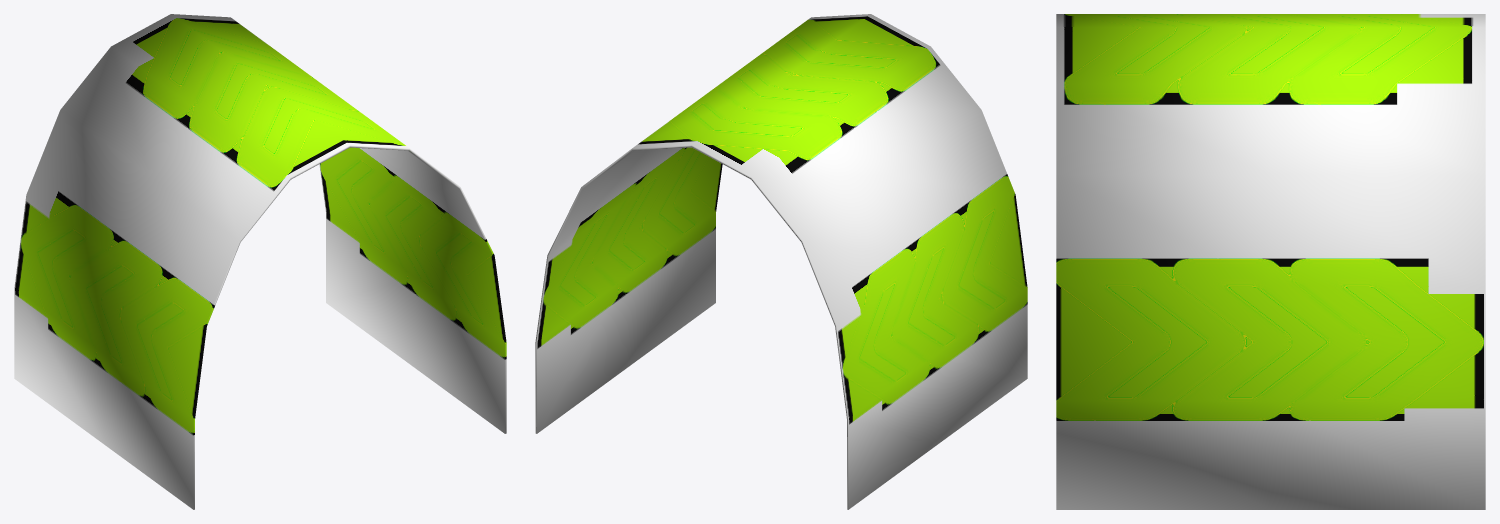
The model's file is ParkourBorderlines_Solid.fbx.
The picture shows the model from 3 angles, left to right: view 1: azimuth 30°, elevation 25°; view 2: azimuth 150°, elevation 25°; view 3: azimuth 270°, elevation 25°; orthographic projection. The views are drawn at different scales.
Parts seen in each view (by area): view 1: Circle; view 2: Circle; view 3: Circle.
Part boxes in pixels (<box>): Circle: <box>14,14,506,509</box>; Circle: <box>535,14,1027,509</box>; Circle: <box>1056,14,1485,509</box>.
Bounding box in the file's own units: 202 × 201 × 200.
1 material, 1 textured.
